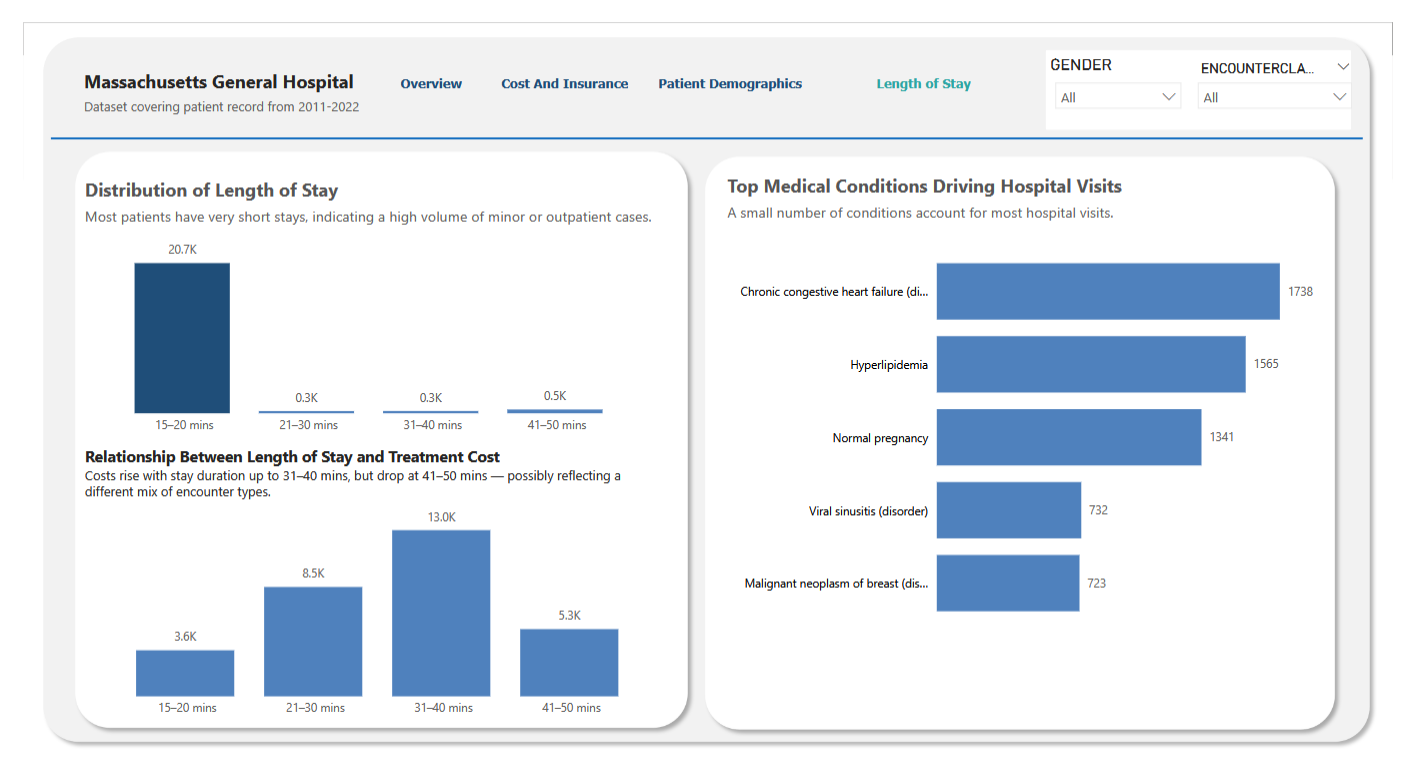

Layout of this report page (visuals, bound fields, positions):
{"tool":"powerbi","page":{"name":"LENGTH OF STAY ","canvas":[1410,750],"ordinal":3},"visuals":[{"type":"shape","box":[11.4,6.5,1384.2,743.3],"z":0},{"type":"textbox","title":"Massachusetts General Hospital","box":[57.5,48.1,313.7,77.6],"z":1000},{"type":"actionButton","box":[358.1,42.2,123.6,40.7],"z":2000},{"type":"actionButton","box":[481.7,42.2,151.7,40.7],"z":3000},{"type":"actionButton","box":[633.4,42.2,189.2,40.7],"z":4000},{"type":"actionButton","box":[822.6,42.2,209.6,40.7],"z":5000},{"type":"shape","box":[28.3,111.7,1351.7,15],"z":6000},{"type":"shape","box":[43.5,124.3,649.7,610.8],"z":7000},{"type":"shape","box":[693.2,129,666.8,607.7],"z":8000},{"type":"columnChart","title":"Distribution of Length of Stay","fields":{"Y":["CountNonNull(encounters.ENCOUNTER ID)"],"Category":["encounters.Stay Group"]},"box":[57.5,158.5,599.9,273.5],"z":9000},{"type":"columnChart","title":"Relationship Between Length of Stay and Treatment Cost","fields":{"Category":["encounters.Stay Group"],"Y":["encounters.Avg Cost"]},"box":[57.5,486.5,617,237.8],"z":10000},{"type":"textbox","box":[57.5,430.5,599.9,76.2],"z":11000},{"type":"shape","box":[1052.5,28.2,315.9,82.9],"z":12000},{"type":"slicer","title":"GENDER","fields":{"Values":["patients.GENDER"]},"box":[1052.5,32.8,150.1,76.6],"z":13000},{"type":"slicer","fields":{"Values":["encounters.ENCOUNTERCLASS"]},"box":[1199.6,34.4,179.9,76.6],"z":14000},{"type":"barChart","title":"Top Medical Conditions Driving Hospital Visits","fields":{"Category":["encounters.REASONDESCRIPTION"],"Y":["CountNonNull(encounters.REASONDESCRIPTION)"]},"box":[719.6,155.4,615.5,488],"z":20000}]}

Visuals, with their boxes in screenshot pixels (x1, y1, x2, y2), scaled from the page's 1410x750 canvas onto the 1412x771 screenshot:
shape: [x1=11, y1=7, x2=1398, y2=770]
"Massachusetts General Hospital" textbox: [x1=58, y1=49, x2=372, y2=129]
actionButton: [x1=359, y1=43, x2=482, y2=85]
actionButton: [x1=482, y1=43, x2=634, y2=85]
actionButton: [x1=634, y1=43, x2=824, y2=85]
actionButton: [x1=824, y1=43, x2=1034, y2=85]
shape: [x1=28, y1=115, x2=1382, y2=130]
shape: [x1=44, y1=128, x2=694, y2=756]
shape: [x1=694, y1=133, x2=1362, y2=757]
"Distribution of Length of Stay" columnChart: [x1=58, y1=163, x2=658, y2=444]
"Relationship Between Length of Stay and Treatment Cost" columnChart: [x1=58, y1=500, x2=675, y2=745]
textbox: [x1=58, y1=443, x2=658, y2=521]
shape: [x1=1054, y1=29, x2=1370, y2=114]
"GENDER" slicer: [x1=1054, y1=34, x2=1204, y2=112]
slicer - encounters.ENCOUNTERCLASS: [x1=1201, y1=35, x2=1381, y2=114]
"Top Medical Conditions Driving Hospital Visits" barChart: [x1=721, y1=160, x2=1337, y2=661]
